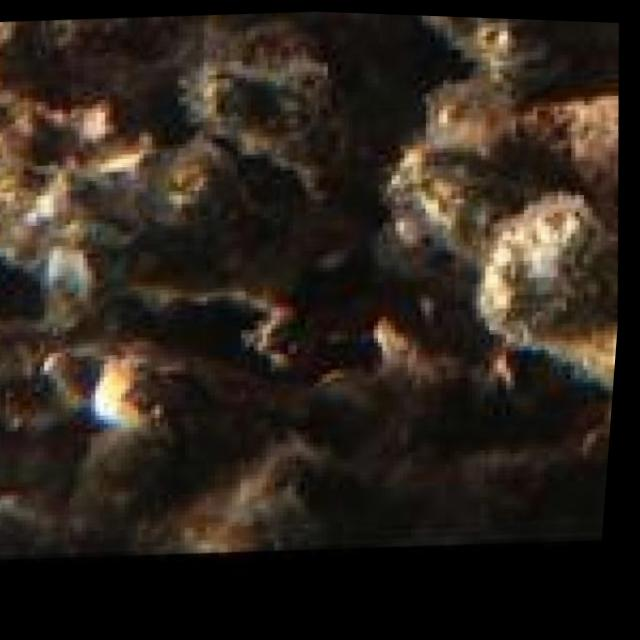Dead Coral: (95, 139, 337, 320), (449, 189, 630, 402), (178, 43, 376, 175)
